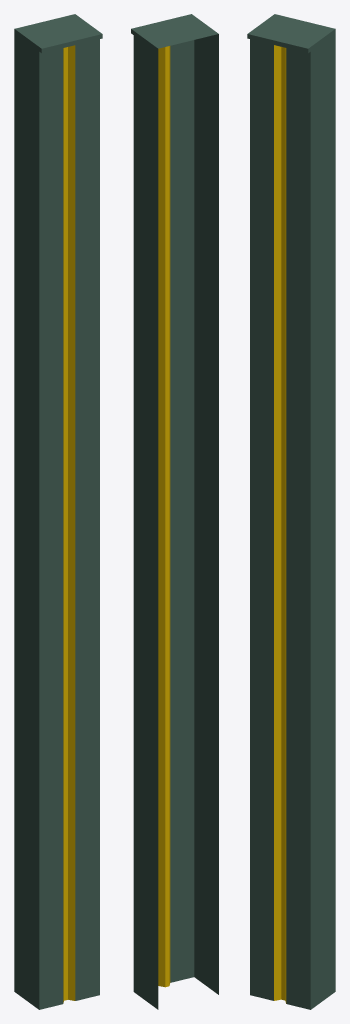
The picture shows the model from 3 angles, left to right: view 1: azimuth 30°, elevation 25°; view 2: azimuth 210°, elevation 25°; view 3: azimuth 330°, elevation 25°; orthographic projection.
Visible parts, largest first — view 1: Column.050; view 2: Column.050; view 3: Column.050.
Part boxes in pixels (left/top/right/bottom): Column.050: left=14, top=14, right=102, bottom=1009; Column.050: left=131, top=14, right=218, bottom=1009; Column.050: left=247, top=14, right=335, bottom=1009.
Size of the model in its own units: 278 by 4218 by 217.
